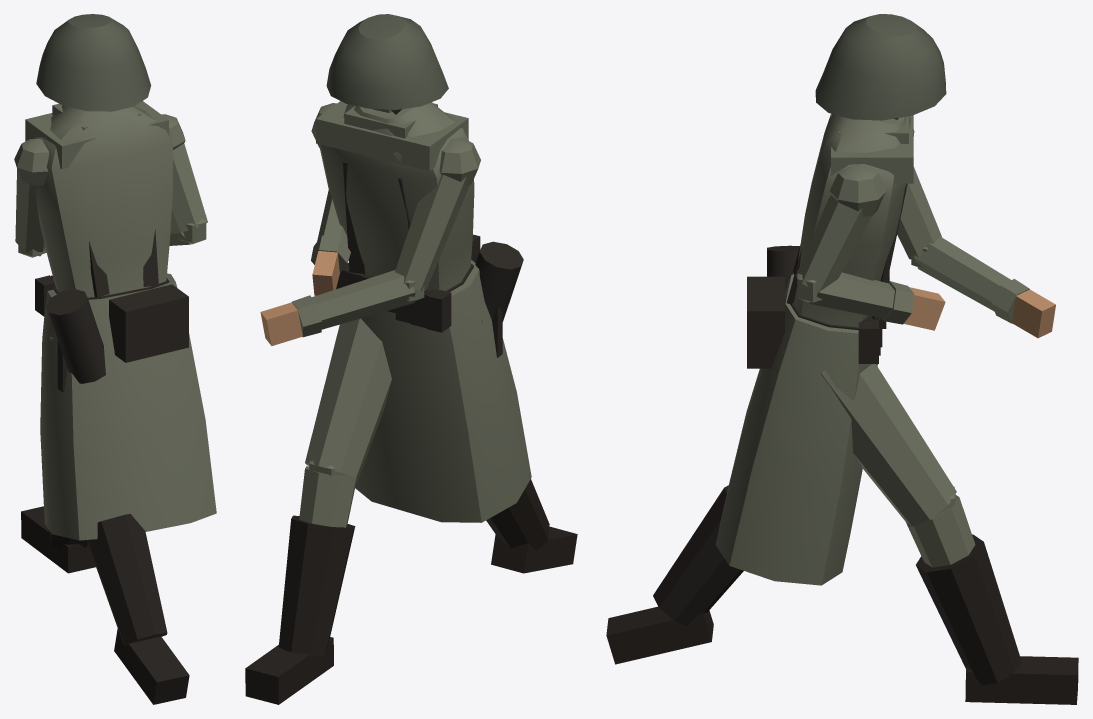
Rendered from soldier_de_coat_advance_rifle.glb.
3 views of the same model, side by side, from view 1: azimuth 30°, elevation 25°; view 2: azimuth 150°, elevation 25°; view 3: azimuth 270°, elevation 25° (orthographic). The views are drawn at different scales.
Parts seen in each view (by area): view 1: soldier_de_coat_advance_rifle; view 2: soldier_de_coat_advance_rifle; view 3: soldier_de_coat_advance_rifle.
Part boxes in pixels (x1=…): soldier_de_coat_advance_rifle: x1=14, y1=14, x2=216, y2=704; soldier_de_coat_advance_rifle: x1=245, y1=14, x2=577, y2=704; soldier_de_coat_advance_rifle: x1=606, y1=14, x2=1078, y2=704.
Bounding box in the file's own units: 0.5176 × 1.72 × 1.12.
